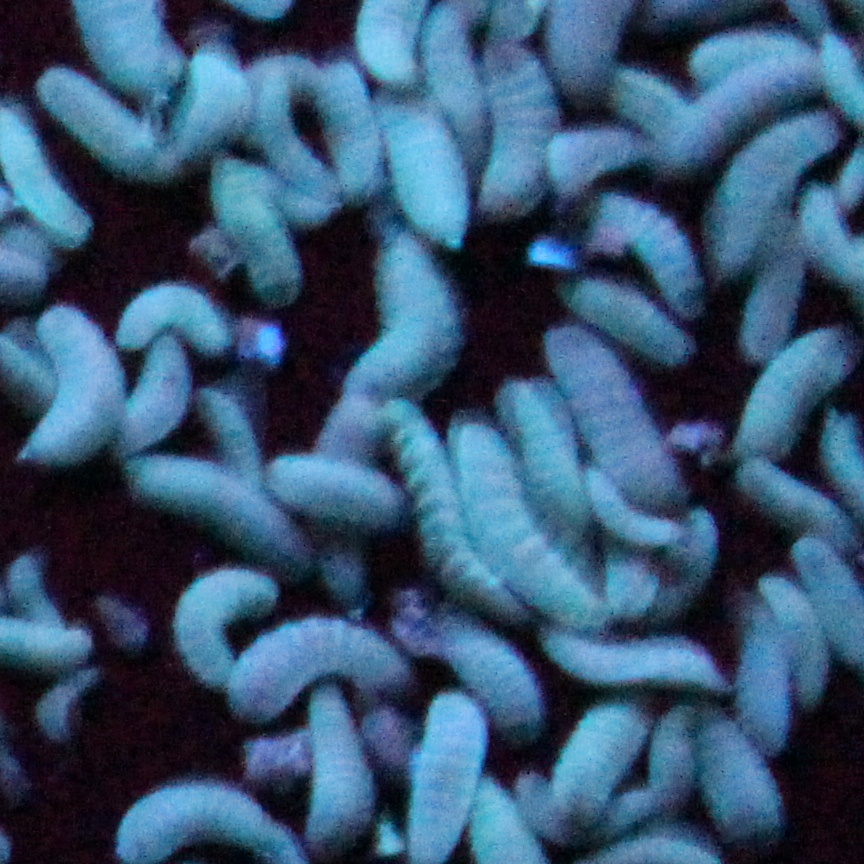larve: (390, 402, 501, 620), (457, 427, 578, 618), (547, 330, 675, 503), (344, 233, 466, 393), (716, 116, 840, 270), (214, 615, 410, 706), (665, 56, 821, 161), (199, 163, 306, 298), (127, 464, 284, 554), (473, 39, 547, 221), (733, 333, 845, 450), (32, 305, 111, 459), (690, 711, 780, 844), (544, 706, 651, 812), (558, 271, 684, 361), (389, 96, 466, 243), (303, 692, 369, 861), (730, 460, 846, 555), (277, 449, 401, 533), (546, 634, 722, 692), (450, 629, 535, 748), (578, 472, 702, 552), (175, 569, 267, 676), (45, 81, 158, 168), (513, 365, 578, 514), (608, 191, 705, 289), (723, 265, 811, 370), (416, 0, 485, 122), (734, 604, 790, 752), (315, 61, 374, 194), (553, 117, 659, 188), (766, 583, 826, 706), (251, 62, 311, 174), (184, 47, 236, 163), (118, 296, 226, 349), (126, 354, 187, 443)
